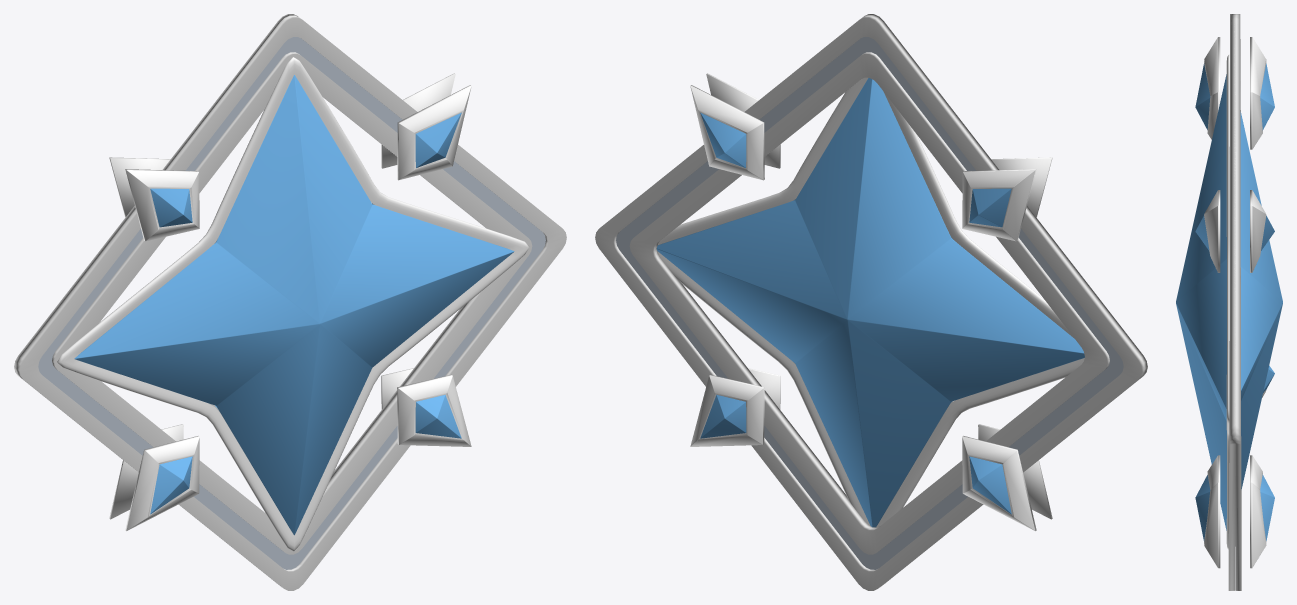
The model's file is superstar.glb.
3 renders of one model, left to right at view 1: azimuth 30°, elevation 25°; view 2: azimuth 150°, elevation 25°; view 3: azimuth 270°, elevation 25°, orthographic.
Visible parts, largest first — view 1: Primogem_1, Frame2, Primogem, Crystal_1, Frame, Crystal_2; view 2: Primogem_1, Frame2, Crystal_1, Primogem, Frame, Crystal_2; view 3: Primogem_1, Crystal_1, Frame2, Crystal_2, Primogem.
Part boxes in pixels (left/top/right/bottom): Primogem_1: left=74, top=75, right=514, bottom=535; Frame2: left=14, top=14, right=566, bottom=590; Primogem: left=57, top=57, right=529, bottom=551; Crystal_1: left=109, top=73, right=471, bottom=530; Frame: left=38, top=37, right=545, bottom=569; Crystal_2: left=150, top=112, right=461, bottom=514; Primogem_1: left=656, top=78, right=1084, bottom=527; Frame2: left=595, top=14, right=1147, bottom=590; Crystal_1: left=690, top=73, right=1052, bottom=530; Primogem: left=658, top=77, right=1084, bottom=527; Frame: left=616, top=37, right=1123, bottom=569; Crystal_2: left=700, top=112, right=1011, bottom=514; Primogem_1: left=1176, top=74, right=1282, bottom=530; Crystal_1: left=1204, top=37, right=1266, bottom=568; Frame2: left=1228, top=14, right=1241, bottom=590; Crystal_2: left=1195, top=63, right=1274, bottom=541; Primogem: left=1226, top=54, right=1229, bottom=549.
Size of the model in its own units: 4.08 by 4.08 by 0.6893.
